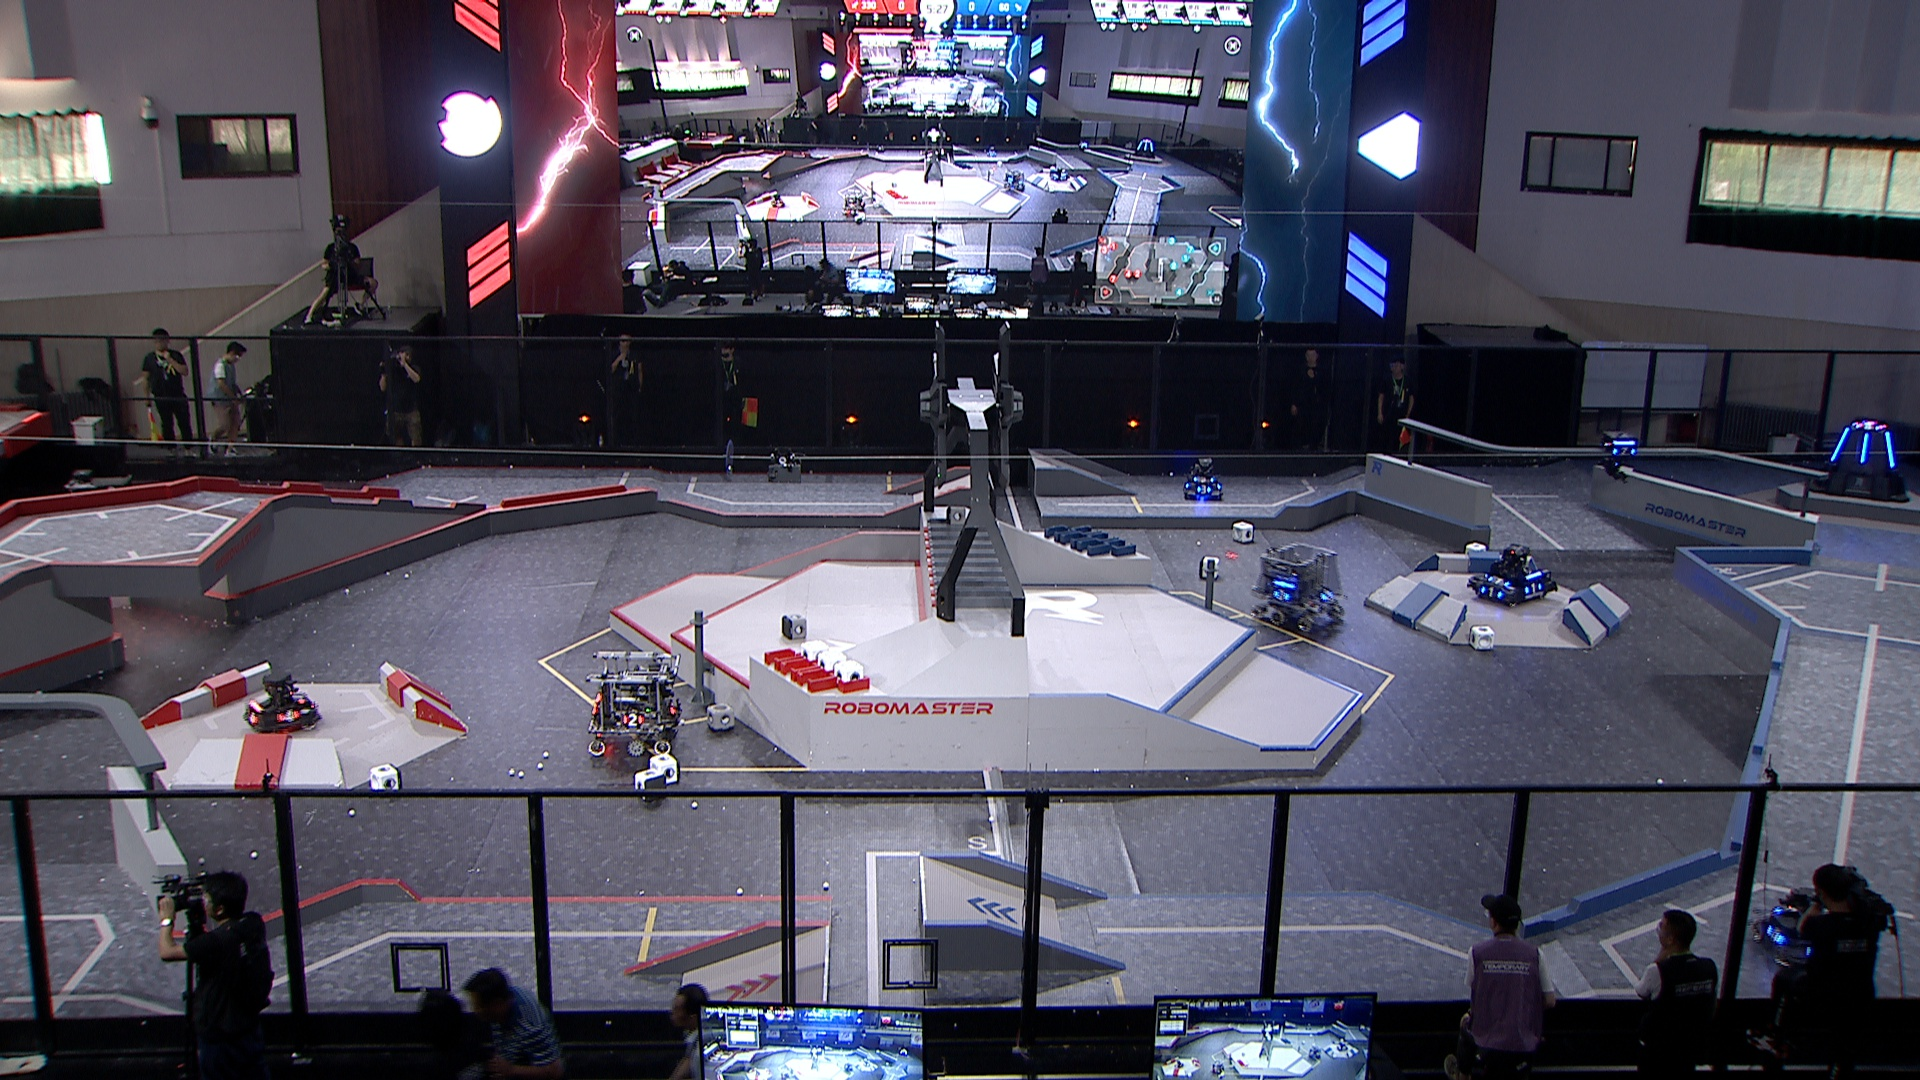armor: (1830, 425, 1850, 465), (1884, 431, 1898, 469), (1764, 922, 1785, 945), (618, 712, 646, 728), (1859, 433, 1871, 465), (276, 708, 301, 723), (1480, 584, 1505, 599), (1523, 582, 1544, 597), (1611, 444, 1638, 456), (1487, 574, 1513, 585), (1271, 585, 1288, 603), (1319, 589, 1337, 604), (1192, 473, 1215, 484), (245, 711, 261, 725), (290, 690, 305, 704), (1195, 484, 1212, 495)
base: (1804, 419, 1915, 501)
car: (584, 645, 680, 754), (1746, 884, 1855, 977), (1249, 541, 1348, 632), (1466, 541, 1556, 608), (240, 669, 319, 736), (1182, 458, 1224, 501)
ignore: (1001, 167, 1027, 194), (844, 191, 866, 216), (1133, 138, 1159, 160), (1855, 422, 1882, 433)
watcher: (1596, 429, 1644, 483)
